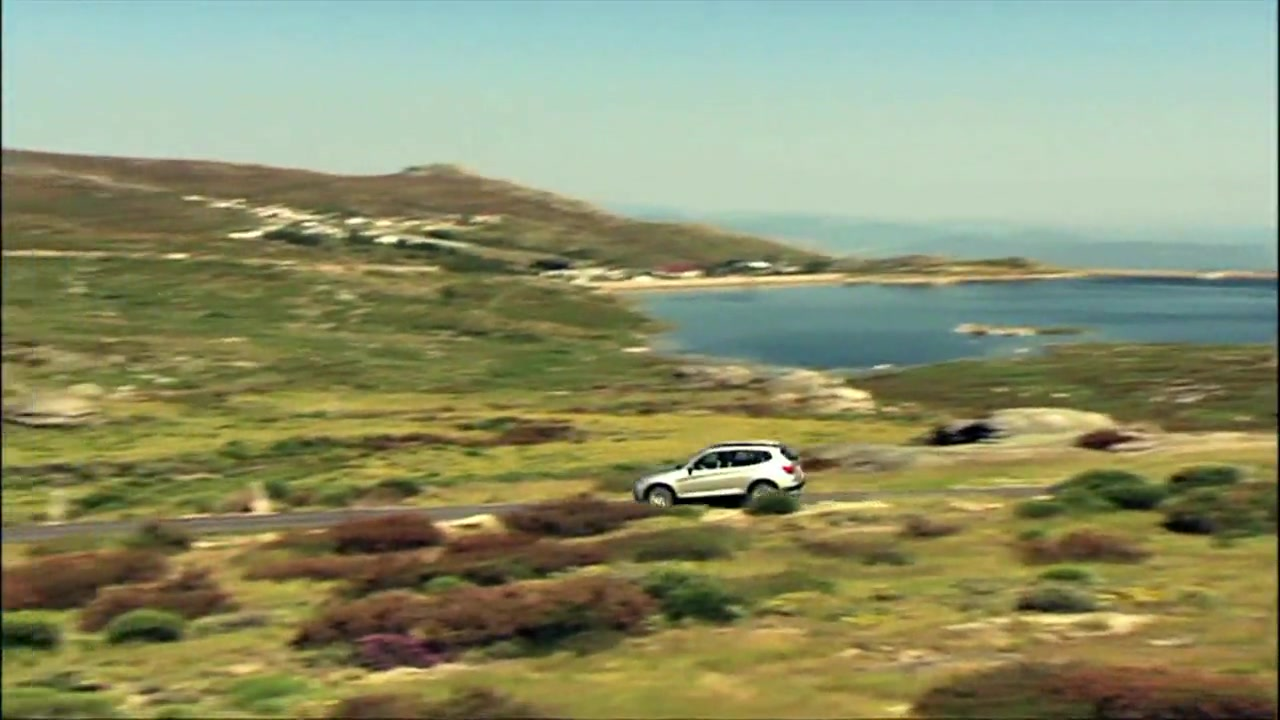car: (632, 439, 811, 512)
